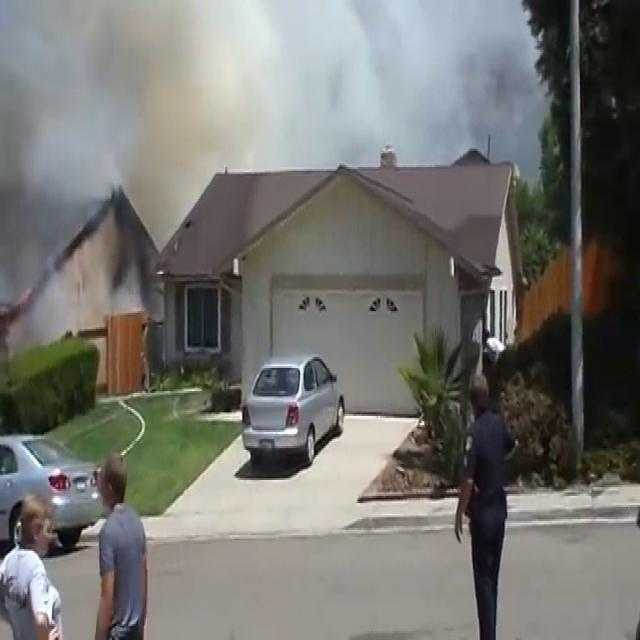Smoke: (0, 1, 233, 305)
